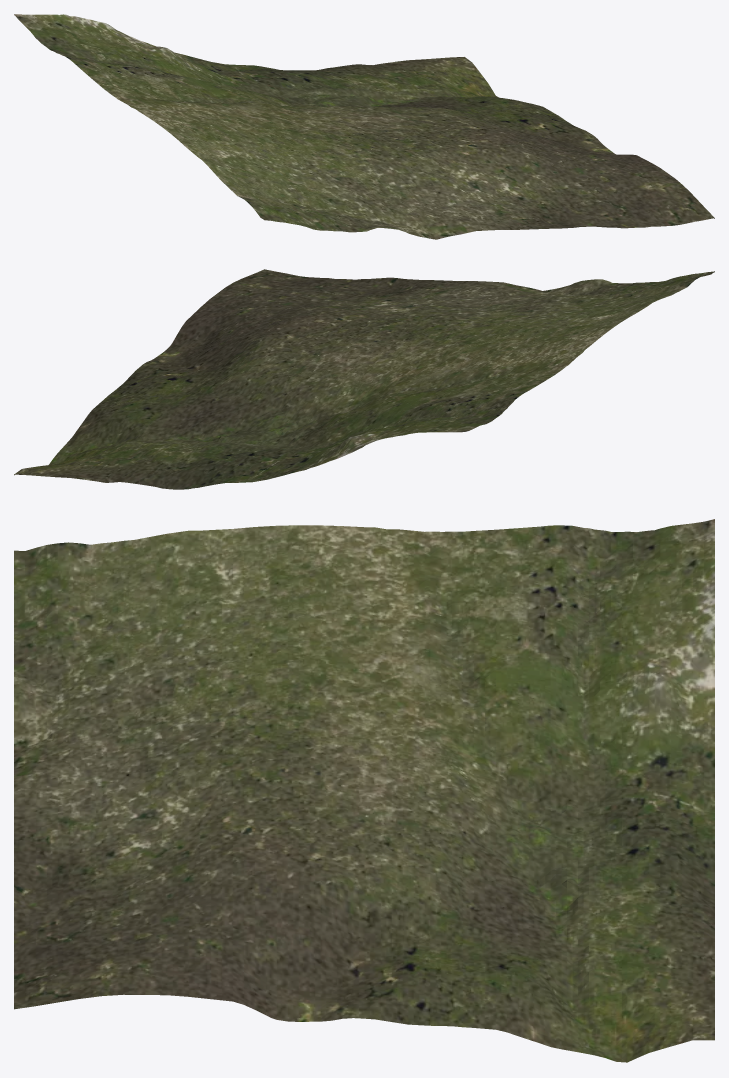
3 renders of one model, top to bottom at view 1: azimuth 30°, elevation 25°; view 2: azimuth 150°, elevation 25°; view 3: azimuth 270°, elevation 25°, orthographic. The views are drawn at different scales.
Size of the model in its own units: 500 by 180 by 481.
Materials: 1 (1 with a texture image).
